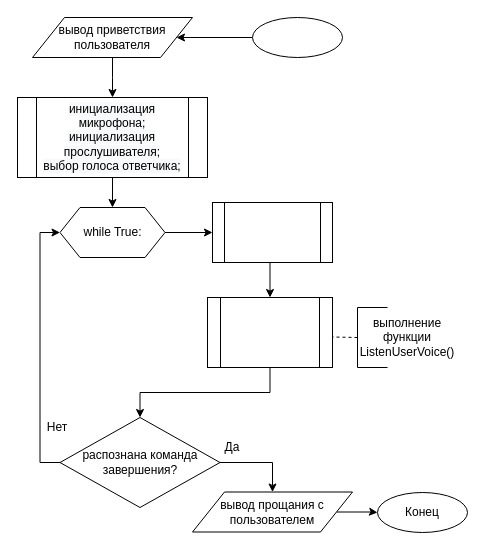
Some shapes in this 485 by 550 pixel diagram are drawn without their labels. The shapes that lost their labels are listed below. From the top down, each one's centre as x and y in pixels, then its label:
the point at 297,37: Начало
the point at 272,232: прослушивание и запись голоса с микрофона
the point at 269,332: распознание команды и выполнение соответсвующих действий
